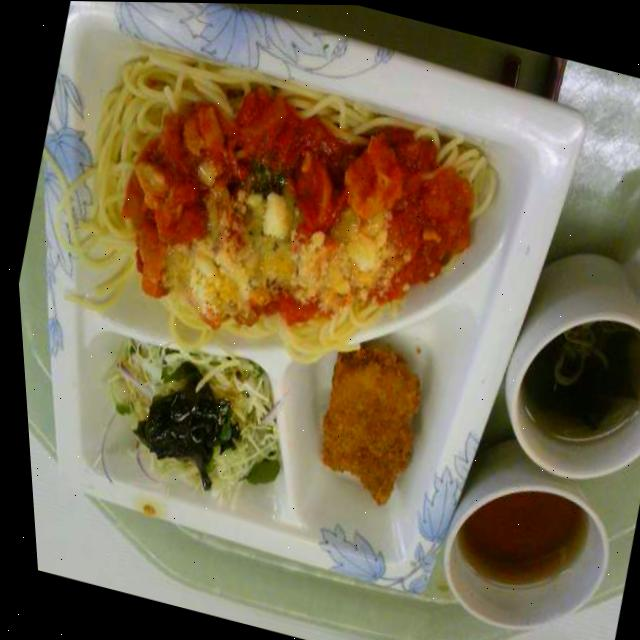蔬菜料理: (71, 324, 306, 527)
